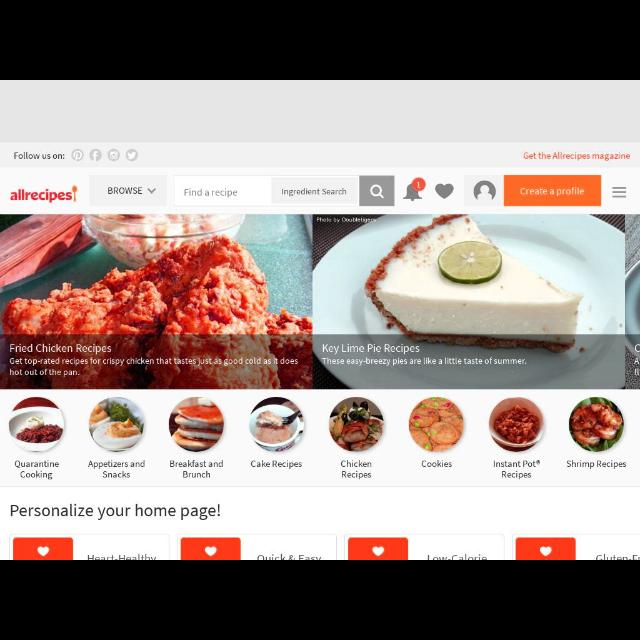button: (14, 538, 74, 560), (181, 538, 241, 560), (348, 538, 408, 560), (518, 539, 574, 559), (360, 176, 394, 204)
icon: (610, 186, 628, 200), (370, 184, 386, 198), (108, 150, 120, 162), (126, 150, 138, 160), (91, 150, 101, 160), (72, 151, 82, 161), (146, 188, 158, 196)
image: (315, 214, 639, 390), (0, 216, 312, 386), (8, 394, 66, 452), (90, 396, 148, 452), (167, 397, 225, 453), (327, 398, 385, 454), (486, 398, 544, 454), (409, 397, 465, 453), (569, 397, 625, 453), (250, 396, 304, 454), (9, 186, 81, 207), (465, 177, 505, 205), (434, 182, 456, 200), (404, 180, 422, 200)
input: (174, 176, 396, 204)
panel: (3, 143, 639, 165)
spinner: (90, 174, 168, 203)
text: (8, 357, 300, 377), (10, 504, 222, 522), (524, 150, 630, 162), (324, 358, 528, 364), (170, 458, 222, 478), (10, 344, 112, 354), (90, 461, 146, 479), (494, 459, 542, 478), (15, 461, 61, 479), (324, 345, 424, 353), (338, 459, 374, 481), (14, 150, 66, 160), (251, 460, 303, 470), (566, 460, 628, 468), (184, 190, 238, 197), (108, 186, 142, 196), (422, 460, 452, 470)
textbutton: (506, 177, 602, 206), (272, 178, 358, 204)
